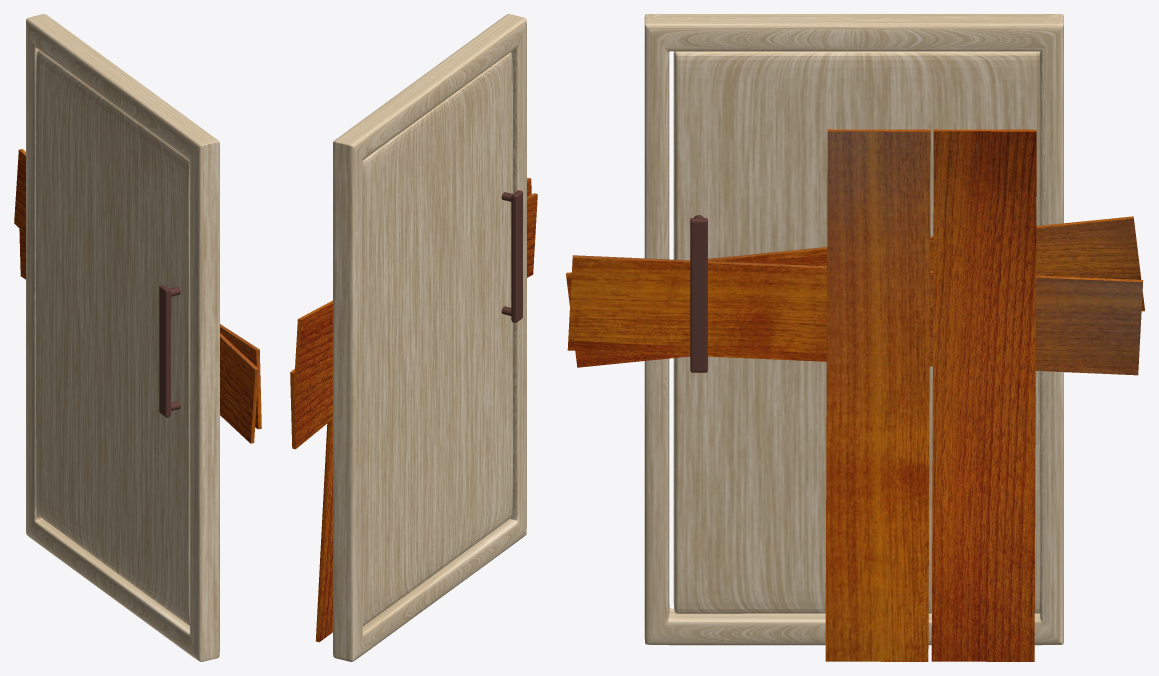
The model's file is 封鎖扉.fbx.
The picture shows the model from 3 angles, left to right: view 1: azimuth 30°, elevation 25°; view 2: azimuth 150°, elevation 25°; view 3: azimuth 270°, elevation 25°; orthographic projection. The views are drawn at different scales.
Parts seen in each view (by area): view 1: 扉, 立方体.001, ノブ, 立方体; view 2: 扉, 立方体.001, 立方体.003, 立方体, ノブ; view 3: 扉, 立方体.002, 立方体.003, 立方体, 立方体.001, ノブ.
Boxes of the visible parts, x1=… form: 扉: x1=26, y1=14, x2=219, y2=661; 立方体.001: x1=14, y1=149, x2=258, y2=443; ノブ: x1=159, y1=285, x2=180, y2=417; 立方体: x1=19, y1=228, x2=261, y2=429; 扉: x1=333, y1=14, x2=526, y2=661; 立方体.001: x1=293, y1=193, x2=537, y2=400; 立方体.003: x1=315, y1=419, x2=332, y2=642; 立方体: x1=290, y1=178, x2=531, y2=449; ノブ: x1=501, y1=190, x2=522, y2=322; 扉: x1=644, y1=14, x2=1063, y2=645; 立方体.002: x1=825, y1=129, x2=930, y2=661; 立方体.003: x1=931, y1=129, x2=1036, y2=661; 立方体: x1=567, y1=255, x2=1143, y2=375; 立方体.001: x1=566, y1=216, x2=1144, y2=367; ノブ: x1=690, y1=215, x2=707, y2=372.
Bounding box in the file's own units: 0.2613 × 2 × 1.69.
